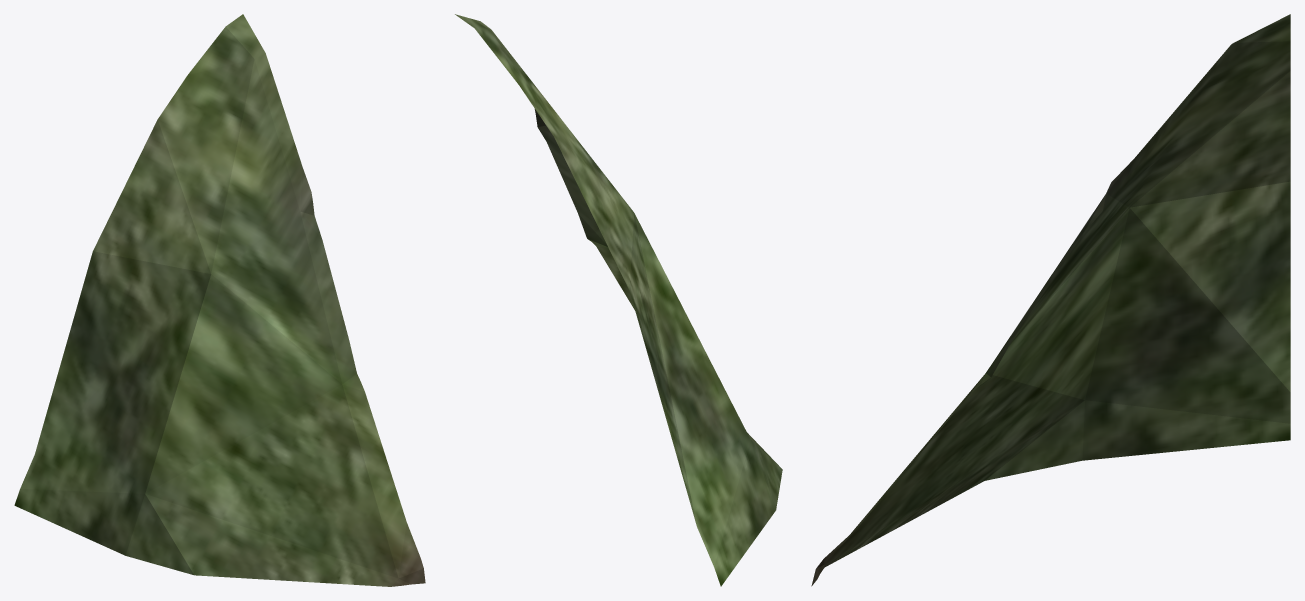
The picture shows the model from 3 angles, left to right: view 1: azimuth 30°, elevation 25°; view 2: azimuth 150°, elevation 25°; view 3: azimuth 270°, elevation 25°; orthographic projection. The views are drawn at different scales.
Bounding box in the file's own units: 0.9224 × 1.68 × 1.27.
1 material, 1 textured.
